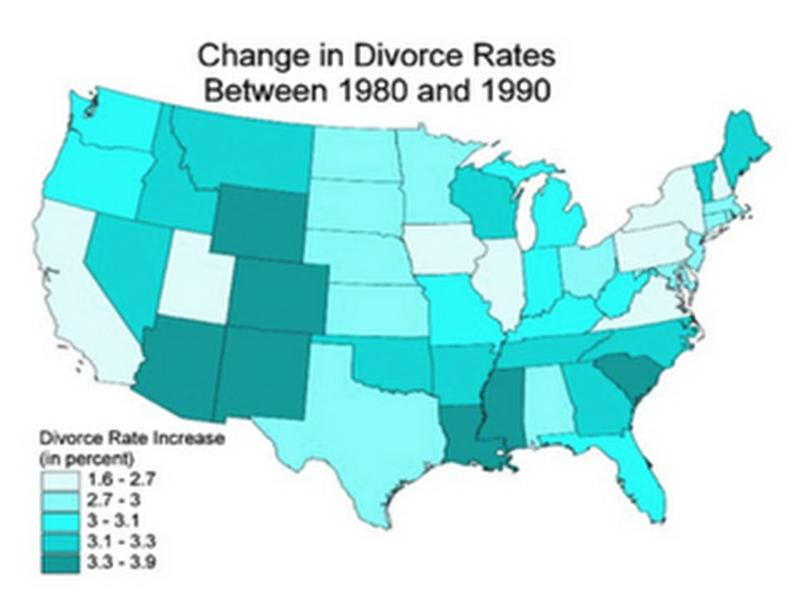legend: (37, 426, 227, 576)
